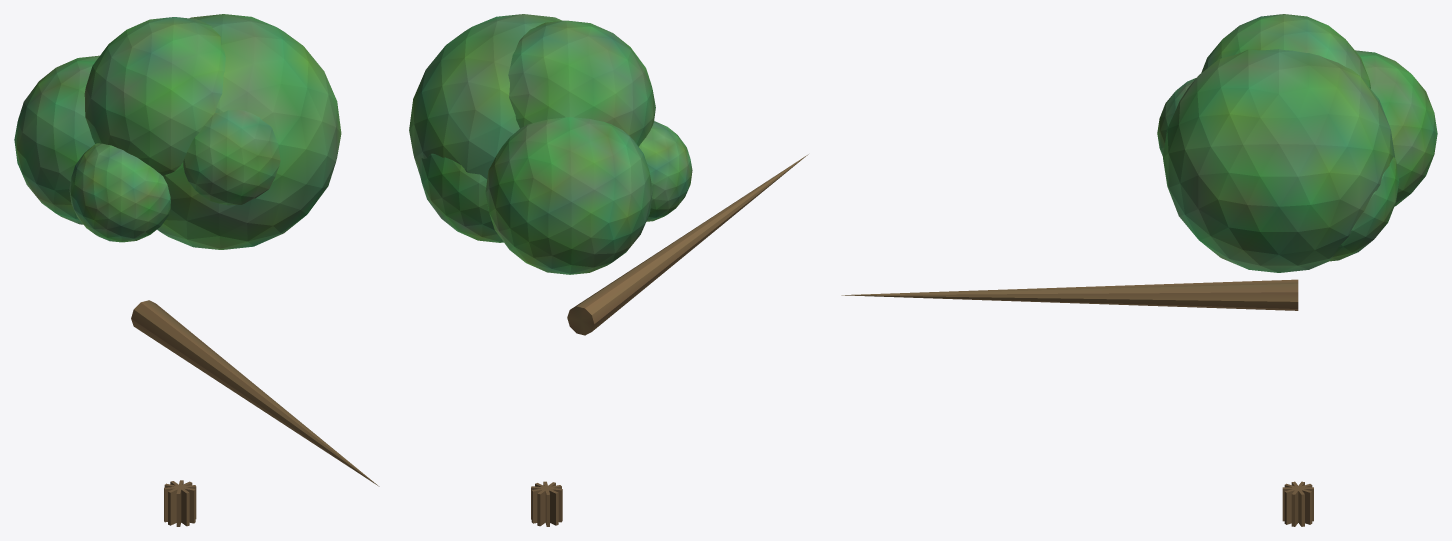
Rendered from tree_4.glb.
3 views of the same model, side by side, from view 1: azimuth 30°, elevation 25°; view 2: azimuth 150°, elevation 25°; view 3: azimuth 270°, elevation 25° (orthographic). The views are drawn at different scales.
Parts seen in each view (by area): view 1: world; view 2: world; view 3: world.
Boxes of the visible parts, x1,y1,x2,y2 form: world: (14,14,379,526); world: (409,14,808,526); world: (841,14,1437,526).
Bounding box in the file's own units: 4.98 × 9.17 × 10.13.
